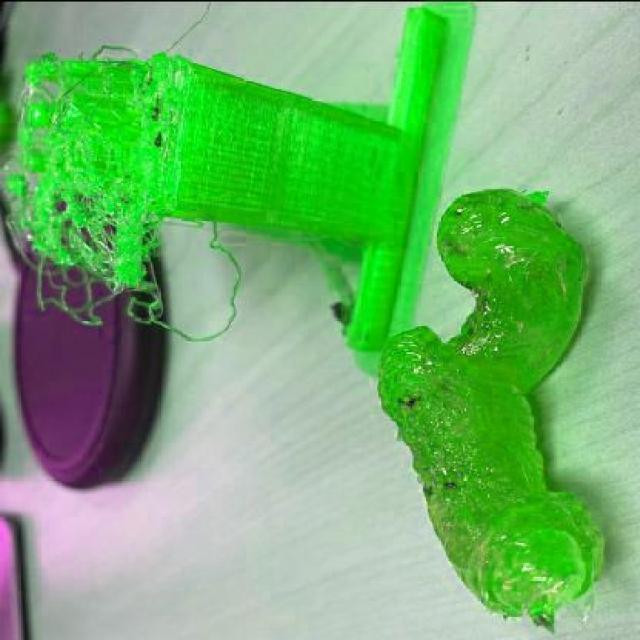spaghetti: (2, 39, 176, 332), (170, 205, 247, 345)
